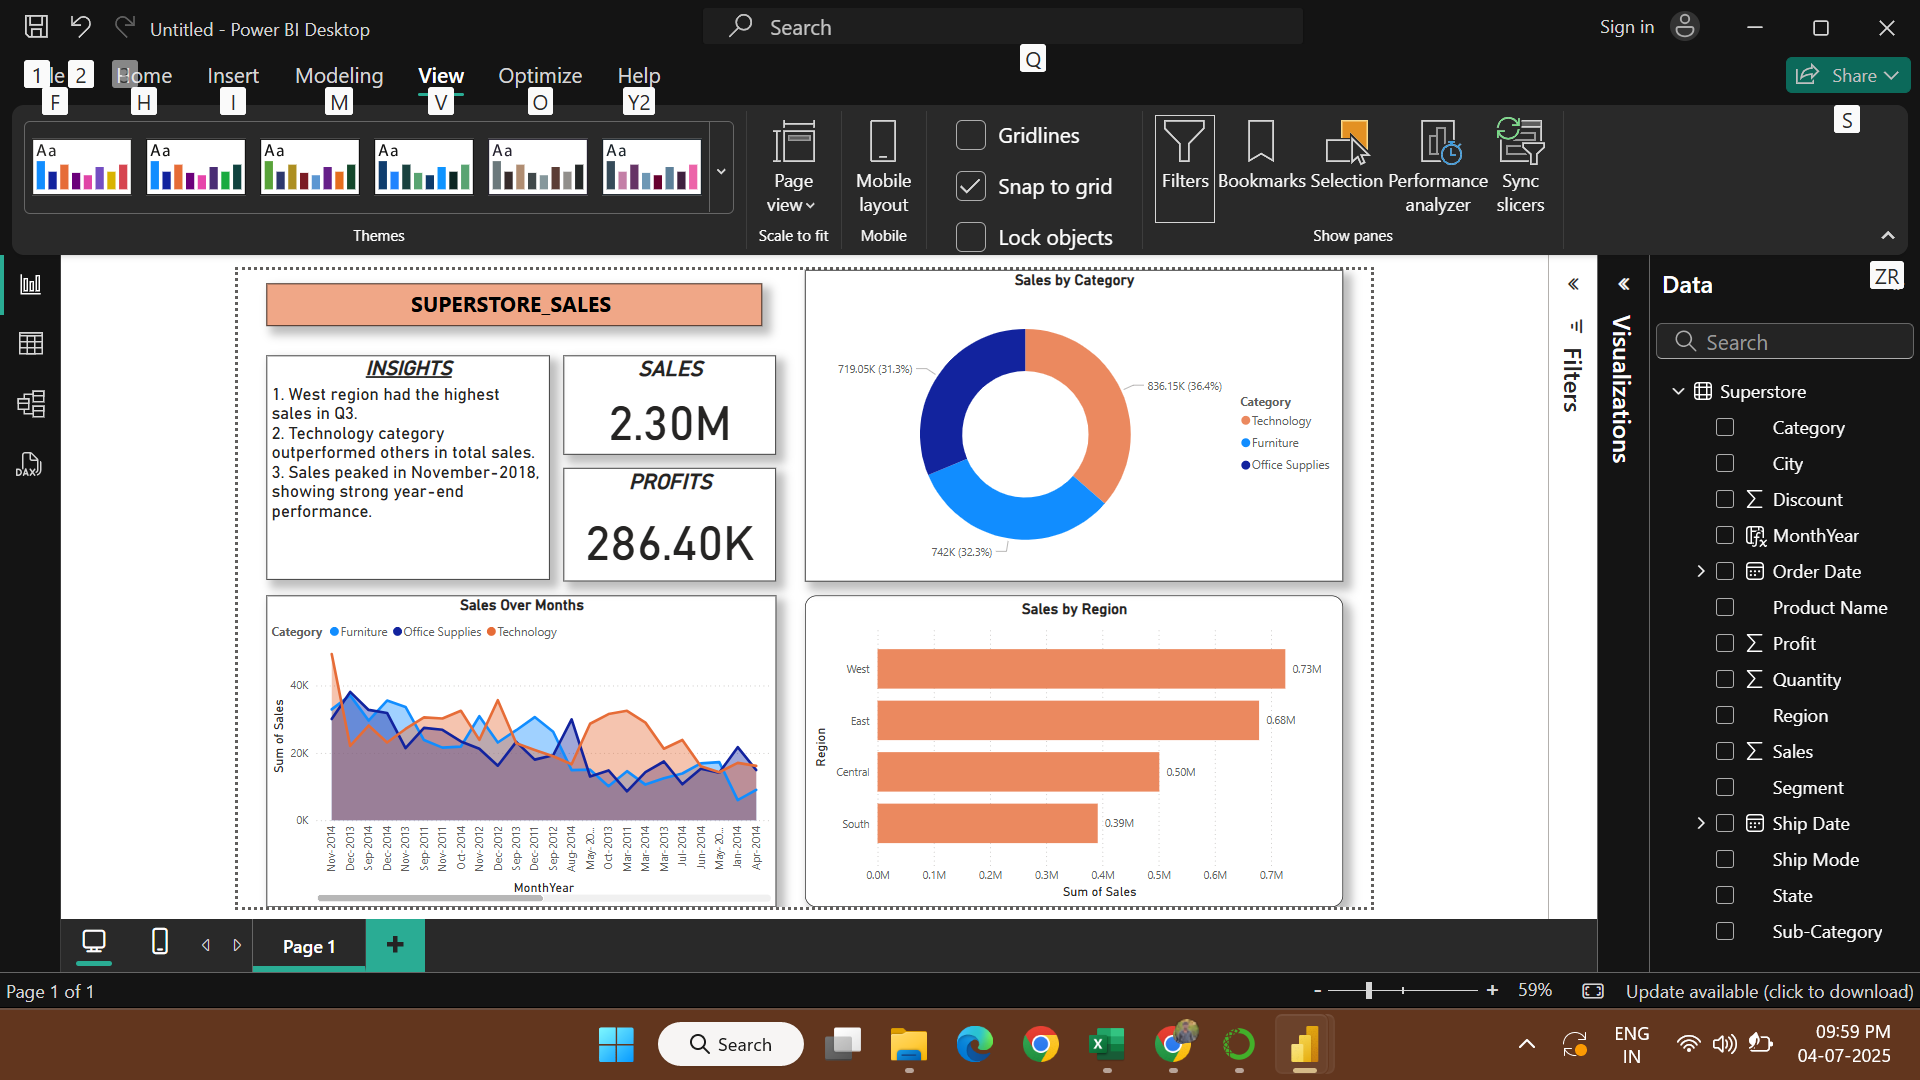

What the dashboard file says about the page in this screenshot:
{"tool":"powerbi","page":{"name":"Page 1","canvas":[1280,720],"ordinal":0},"visuals":[{"type":"lineChart","title":"Sales Over Months","fields":{"Category":["Superstore.MonthYear"],"Y":["Sum(Superstore.Sales)"],"Series":["Superstore.Category"]},"box":[32,368,576,352],"z":0},{"type":"clusteredBarChart","title":"Sales by Region","fields":{"Category":["Superstore.Region"],"Y":["Sum(Superstore.Sales)"]},"box":[640,368,608,352],"z":1},{"type":"donutChart","title":" Sales by Category","fields":{"Category":["Superstore.Category"],"Y":["Sum(Superstore.Sales)"]},"box":[640,0,608,352],"z":2},{"type":"card","title":"SALES","fields":{"Values":["Sum(Superstore.Sales)"]},"box":[368,96,240,112],"z":3},{"type":"card","title":"PROFITS","fields":{"Values":["Sum(Superstore.Profit)"]},"box":[368,224,240,128],"z":4},{"type":"textbox","box":[32,16,560,48],"z":5},{"type":"textbox","title":"INSIGHTS","box":[32,96,320,253],"z":6}]}

Visuals, with their boxes on the page's 1280x720 design canvas (x1, y1, x2, y2). These are canvas units, not pixel positions in the 1920x1080 screenshot, which may show the page scaled, cropped or inside an application window:
"Sales Over Months" lineChart: region(32, 368, 608, 720)
"Sales by Region" clusteredBarChart: region(640, 368, 1248, 720)
" Sales by Category" donutChart: region(640, 0, 1248, 352)
"SALES" card: region(368, 96, 608, 208)
"PROFITS" card: region(368, 224, 608, 352)
textbox: region(32, 16, 592, 64)
"INSIGHTS" textbox: region(32, 96, 352, 349)
